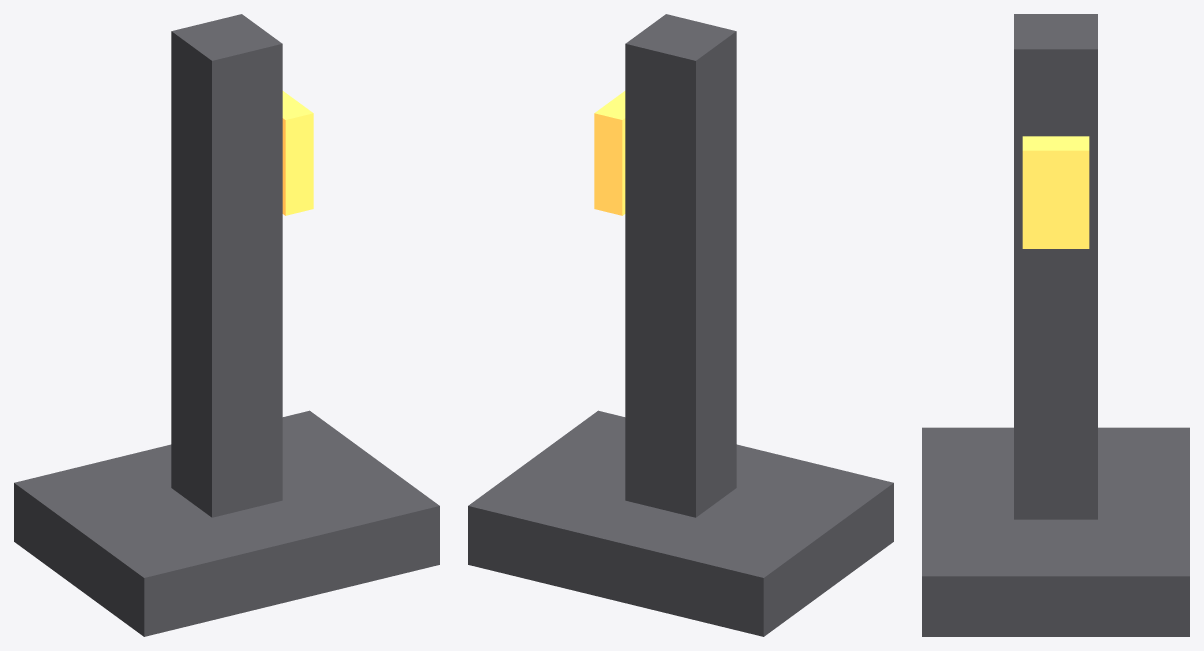
The model's file is place_orcus_signal_plinth.glb.
3 renders of one model, left to right at view 1: azimuth 30°, elevation 25°; view 2: azimuth 150°, elevation 25°; view 3: azimuth 270°, elevation 25°, orthographic. The views are drawn at different scales.
Parts seen in each view (by area): view 1: SignalPlinthStone, SignalFaceLamp; view 2: SignalPlinthStone, SignalFaceLamp; view 3: SignalPlinthStone, SignalFaceLamp.
Boxes of the visible parts, <box> form: SignalPlinthStone: <box>14,14,439,636</box>; SignalFaceLamp: <box>282,91,313,215</box>; SignalPlinthStone: <box>468,14,893,636</box>; SignalFaceLamp: <box>594,91,625,215</box>; SignalPlinthStone: <box>922,14,1189,636</box>; SignalFaceLamp: <box>1022,136,1089,248</box>.
Size of the model in its own units: 0.84 by 1.4 by 0.64.
